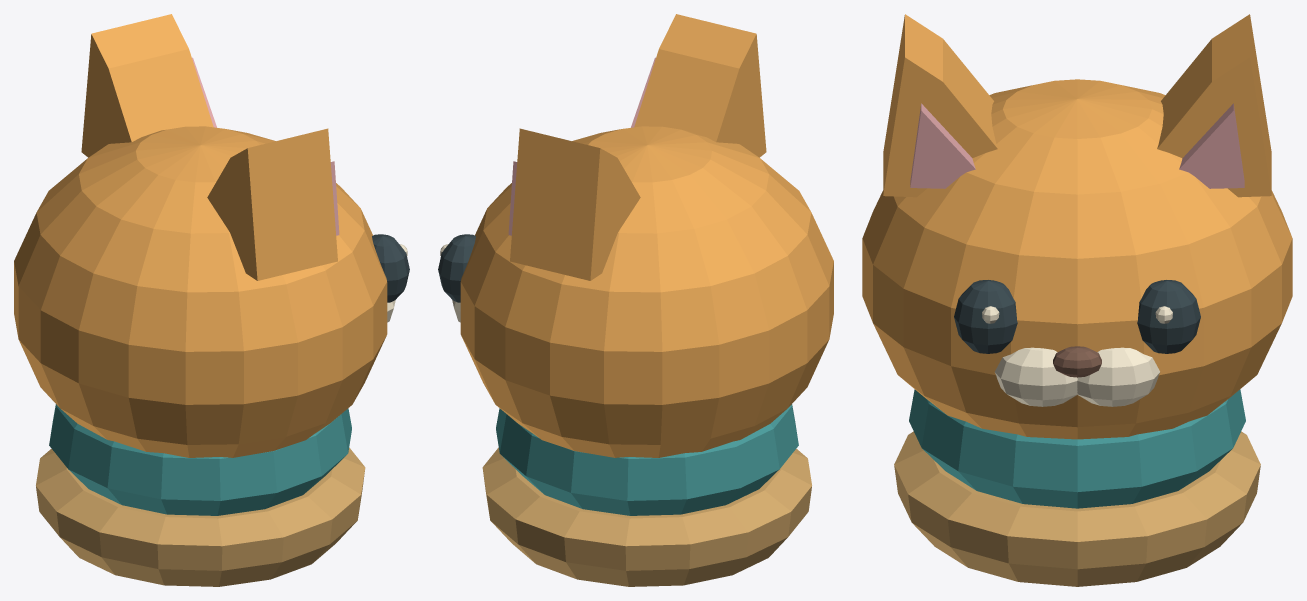
File: SM_Pinball_Recruit6.fbx
3 views of the same model, side by side, from view 1: azimuth 30°, elevation 25°; view 2: azimuth 150°, elevation 25°; view 3: azimuth 270°, elevation 25° (orthographic). The views are drawn at different scales.
Visible parts, largest first — view 1: SM_Pinball_Recruit6; view 2: SM_Pinball_Recruit6; view 3: SM_Pinball_Recruit6.
Part boxes in pixels (box(x1,y1,x2,y2)): SM_Pinball_Recruit6: box(14, 14, 409, 586); SM_Pinball_Recruit6: box(438, 14, 833, 586); SM_Pinball_Recruit6: box(862, 14, 1292, 586).
Size of the model in its own units: 56 by 55.35 by 69.7.
